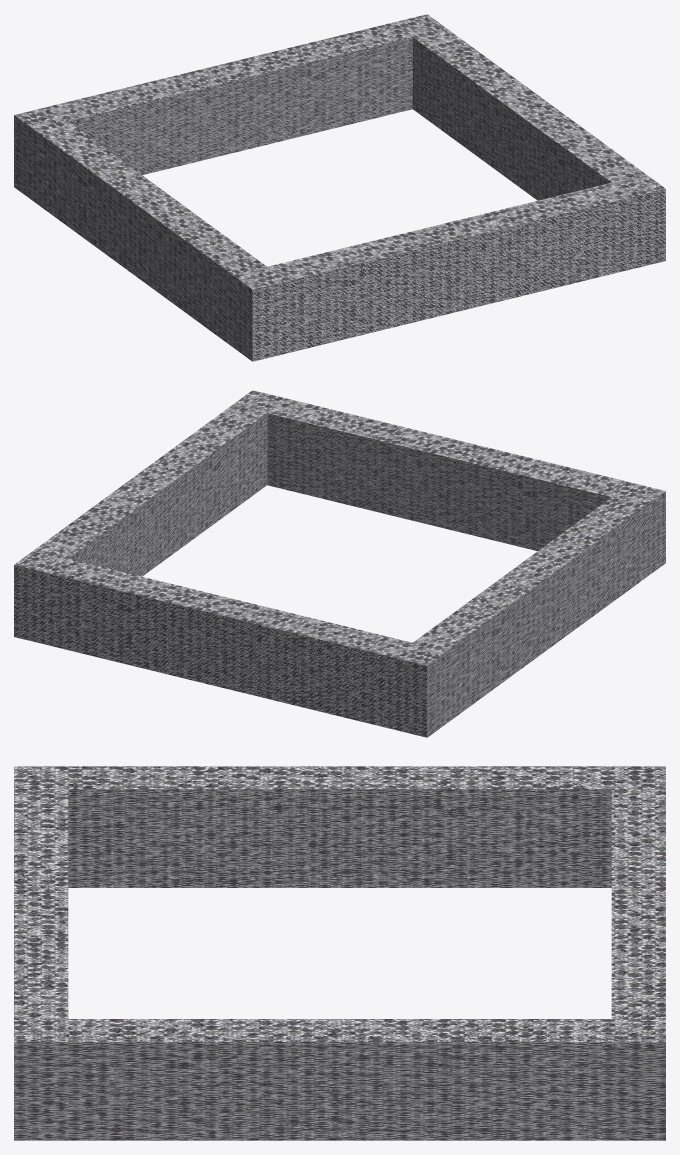
File: DiamondFrame.glb
3 views of the same model, one above another, from view 1: azimuth 30°, elevation 25°; view 2: azimuth 150°, elevation 25°; view 3: azimuth 270°, elevation 25° (orthographic). The views are drawn at different scales.
Parts seen in each view (by area): view 1: Frame_3; view 2: Frame_3; view 3: Frame_3.
Part boxes in pixels (bbox=[...]): Frame_3: bbox=[14, 14, 665, 361]; Frame_3: bbox=[14, 390, 665, 737]; Frame_3: bbox=[14, 766, 665, 1140].
Bounding box in the file's own units: 2.4 × 0.4 × 2.4.
1 material, 1 textured.
